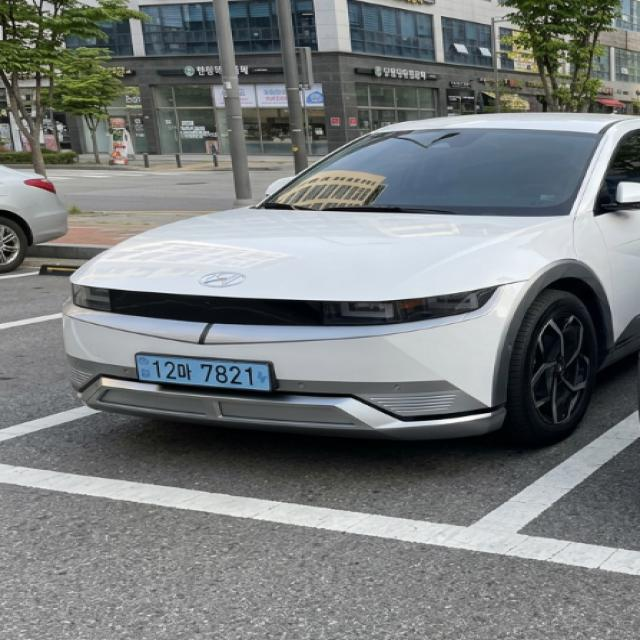car: (120, 347, 296, 405)
carev: (251, 360, 274, 398), (133, 354, 151, 384)
